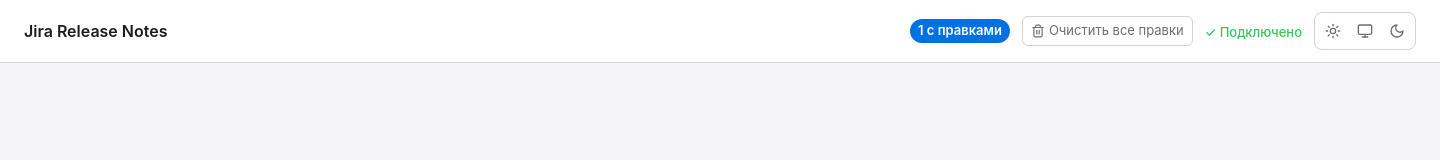
it: AppHeader edits badge › wipe clears the badge after confirm (D-18 wipe-all)
What coordinates should you click on to do the following:
click the button labelled "Очистить все правки"
I would click on:
 (1107, 31)
Its box is x1=1022 y1=16 x2=1193 y2=46.
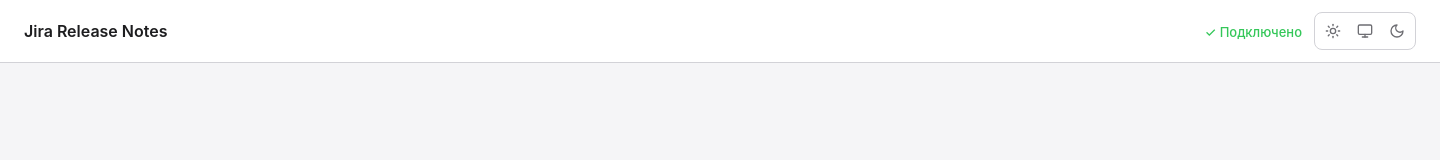
Result: the text "с правками" is gone
